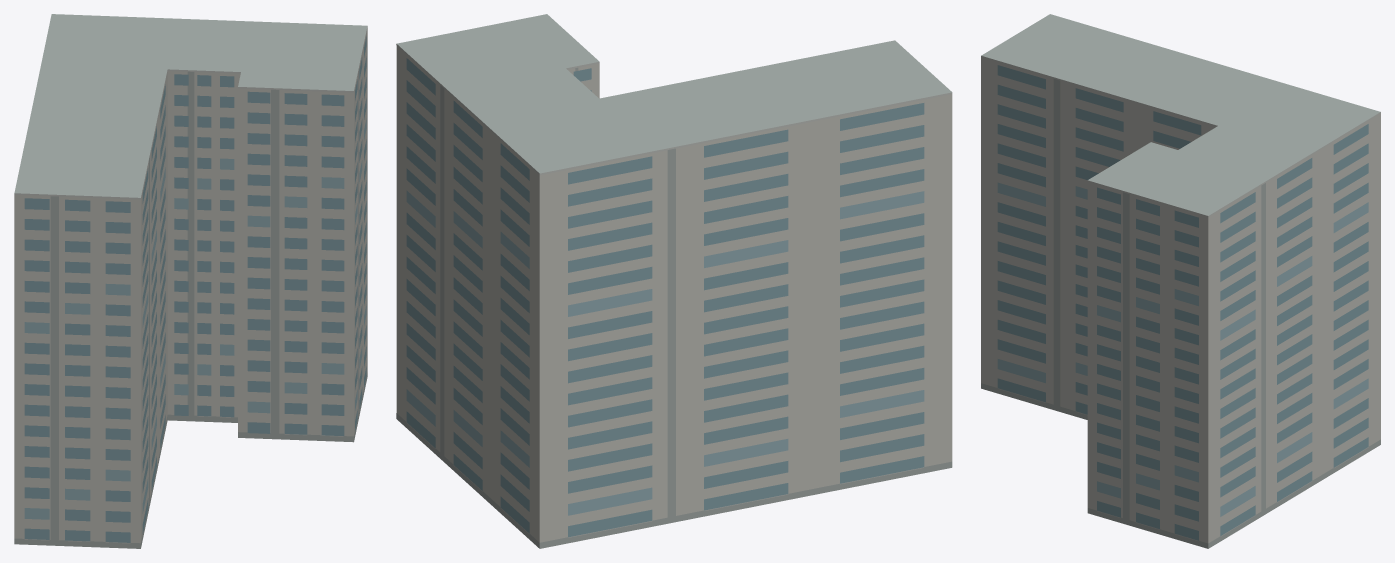
Rendered from residential-a588f60d-0d7c-46ae-8215-43a630f620ed.glb.
3 renders of one model, left to right at view 1: azimuth 30°, elevation 25°; view 2: azimuth 150°, elevation 25°; view 3: azimuth 270°, elevation 25°, orthographic. The views are drawn at different scales.
Parts seen in each view (by area): view 1: residential-a588f60d-0d7c-46ae-8215-43a630f620ed.tmp; view 2: residential-a588f60d-0d7c-46ae-8215-43a630f620ed.tmp; view 3: residential-a588f60d-0d7c-46ae-8215-43a630f620ed.tmp.
Boxes of the visible parts, bbox=[...] form: residential-a588f60d-0d7c-46ae-8215-43a630f620ed.tmp: bbox=[14, 14, 367, 548]; residential-a588f60d-0d7c-46ae-8215-43a630f620ed.tmp: bbox=[396, 14, 952, 548]; residential-a588f60d-0d7c-46ae-8215-43a630f620ed.tmp: bbox=[981, 14, 1380, 548].
Bounding box in the file's own units: 70.29 × 54 × 58.78.
